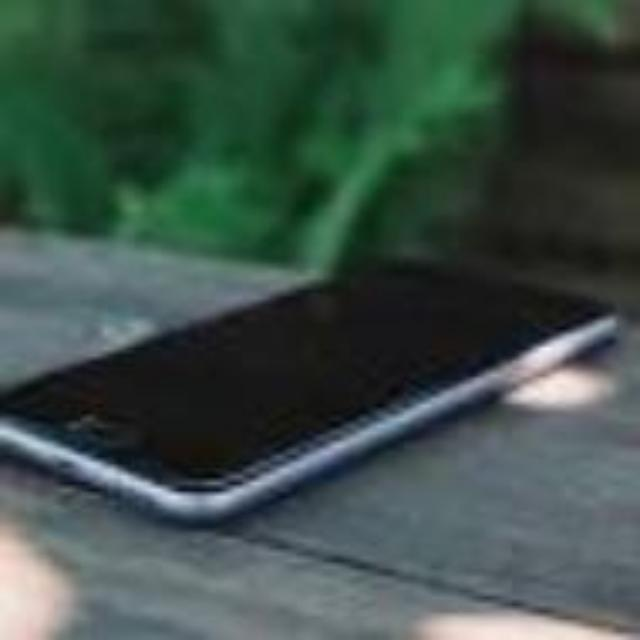phone: (1, 169, 640, 510)
